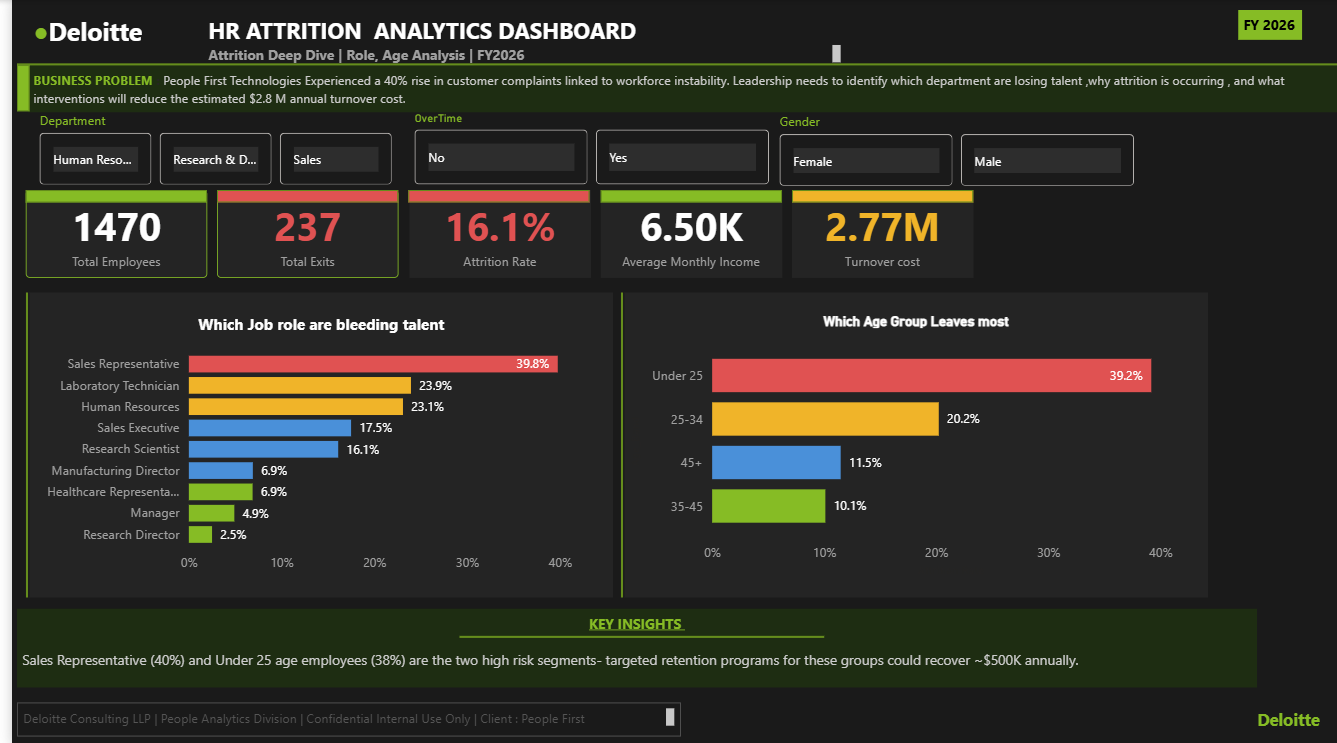

The dashboard page shown, as its layout file describes it:
{"tool":"powerbi","page":{"name":"Attrition Deep Dive","canvas":[1280,720],"ordinal":1},"visuals":[{"type":"textbox","box":[16,10,125.5,56.7],"z":0},{"type":"textbox","box":[184.6,9.7,620.1,42.2],"z":1000},{"type":"textbox","box":[184.6,38.6,620.1,27.7],"z":2000},{"type":"textbox","box":[15.7,62.7,1265,45.8],"z":3000},{"type":"shape","box":[4.8,54.3,1275.2,15.7],"z":4000},{"type":"card","fields":{"Values":["HR Attrition csv.Total Employees"]},"box":[13.2,182.9,175,85],"z":5000},{"type":"card","fields":{"Values":["HR Attrition csv.Total Exits"]},"box":[198.2,182.9,175,85],"z":6000},{"type":"shape","box":[13.8,183.4,174.9,12.1],"z":7000},{"type":"shape","box":[198.3,183.4,174.9,12.1],"z":8000},{"type":"card","fields":{"Values":["HR Attrition csv.Attrition Rate"]},"box":[383.2,182.9,175,85],"z":9000},{"type":"shape","box":[382.9,183.4,174.9,12.1],"z":10000},{"type":"card","fields":{"Values":["HR Attrition csv.Average Monthly Income"]},"box":[568.2,182.9,175,85],"z":11000},{"type":"shape","box":[568.7,183.4,174.9,12.1],"z":12000},{"type":"card","fields":{"Values":["HR Attrition csv.Turnover cost"]},"box":[753.2,183.4,175,85],"z":13000},{"type":"shape","box":[753.3,183.4,174.9,12.1],"z":14000},{"type":"shape","box":[4.8,62.7,12.1,44.6],"z":15000},{"type":"advancedSlicerVisual","fields":{"Values":["HR Attrition csv.OverTime"]},"box":[383.6,107.4,352.3,76],"z":16000},{"type":"advancedSlicerVisual","fields":{"Values":["HR Attrition csv.Department"]},"box":[21.7,107.4,352,76],"z":17000},{"type":"advancedSlicerVisual","fields":{"Values":["HR Attrition csv.Gender"]},"box":[735.9,108.6,352.3,76],"z":18000},{"type":"textbox","box":[1183.5,9.7,61.5,29],"z":19000},{"type":"shape","box":[494.6,539.3,226.8,150.8],"z":20000},{"type":"shape","box":[0,678,1280,12.1],"z":21000},{"type":"textbox","box":[4.8,678,640.6,32.6],"z":22000},{"type":"textbox","box":[1196.8,678,83.2,32.6],"z":23000},{"type":"clusteredBarChart","title":"Which Job role are bleeding talent","fields":{"Category":["HR Attrition csv.JobRole"],"Y":["HR Attrition csv.Attrition Rate"]},"box":[16.9,282.3,563.4,294.4],"z":24000},{"type":"clusteredBarChart","title":"Which Age Group Leaves most","fields":{"Y":["HR Attrition csv.Attrition Rate"],"Category":["HR Attrition csv.Age_Band"]},"box":[591.2,282.3,563,294.4],"z":25000},{"type":"textbox","box":[4.8,587.5,1196.8,76],"z":26000},{"type":"shape","box":[431.9,539.3,352.3,150.8],"z":27000},{"type":"shape","box":[0,282.3,29,294.4],"z":28000},{"type":"shape","box":[574.3,282.3,29,294.4],"z":29000}]}

Visuals, with their boxes in screenshot pixels (x1, y1, x2, y2), scaled from the page's 1280x720 canvas onto the 1337x743 screenshot:
textbox: 17, 10, 148, 69
textbox: 193, 10, 841, 54
textbox: 193, 40, 841, 68
textbox: 16, 65, 1336, 112
shape: 5, 56, 1336, 72
card - HR Attrition csv.Total Employees: 14, 189, 197, 276
card - HR Attrition csv.Total Exits: 207, 189, 390, 276
shape: 14, 189, 197, 202
shape: 207, 189, 390, 202
card - HR Attrition csv.Attrition Rate: 400, 189, 583, 276
shape: 400, 189, 583, 202
card - HR Attrition csv.Average Monthly Income: 594, 189, 776, 276
shape: 594, 189, 777, 202
card - HR Attrition csv.Turnover cost: 787, 189, 970, 277
shape: 787, 189, 970, 202
shape: 5, 65, 18, 111
advancedSlicerVisual - HR Attrition csv.OverTime: 401, 111, 769, 189
advancedSlicerVisual - HR Attrition csv.Department: 23, 111, 390, 189
advancedSlicerVisual - HR Attrition csv.Gender: 769, 112, 1137, 190
textbox: 1236, 10, 1300, 40
shape: 517, 557, 754, 712
shape: 0, 700, 1336, 712
textbox: 5, 700, 674, 733
textbox: 1250, 700, 1336, 733
"Which Job role are bleeding talent" clusteredBarChart: 18, 291, 606, 595
"Which Age Group Leaves most" clusteredBarChart: 618, 291, 1206, 595
textbox: 5, 606, 1255, 685
shape: 451, 557, 819, 712
shape: 0, 291, 30, 595
shape: 600, 291, 630, 595
